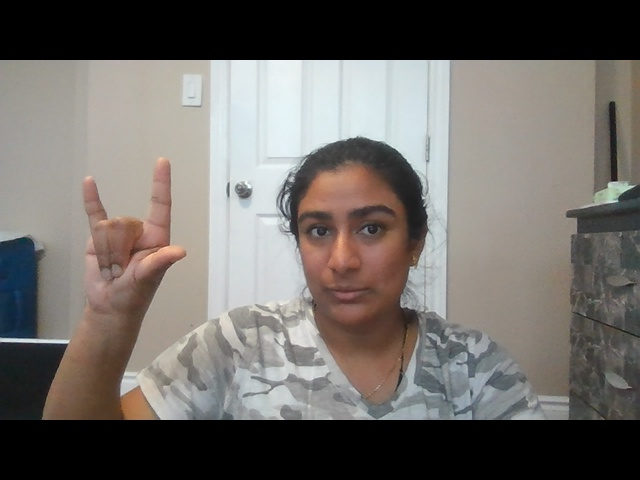iloveyou: (74, 154, 190, 332)
